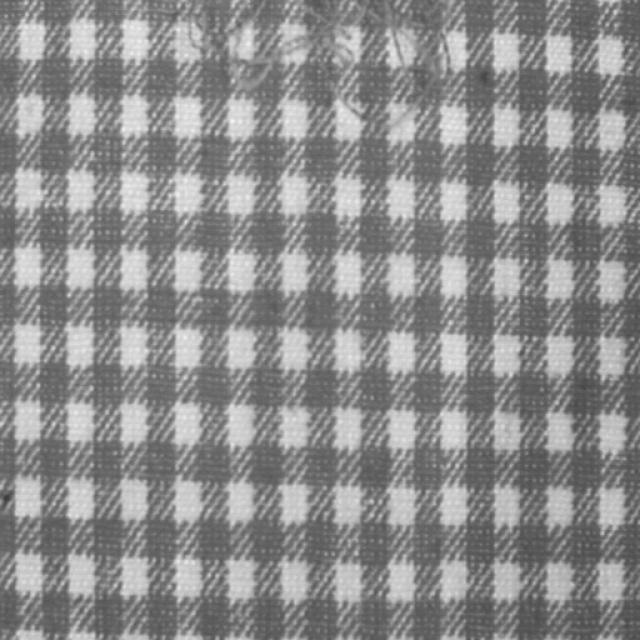Foreign-Body-Defect: (174, 0, 466, 115)
